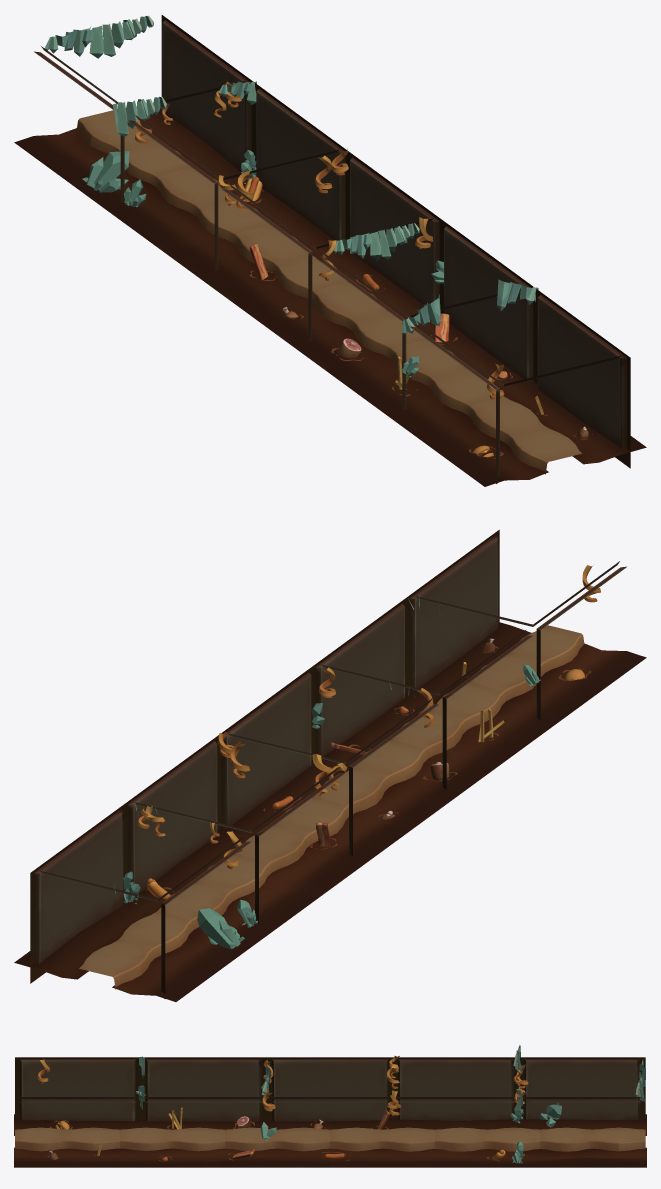
File: stg2_C.gltf
3 renders of one model, top to bottom at view 1: azimuth 30°, elevation 25°; view 2: azimuth 150°, elevation 25°; view 3: azimuth 270°, elevation 25°, orthographic. The views are drawn at different scales.
Visible parts, largest first — view 1: stg2_C_GEO:PIV; view 2: stg2_C_GEO:PIV; view 3: stg2_C_GEO:PIV.
Boxes of the visible parts, x1,y1,x2,y2 form: stg2_C_GEO:PIV: (14,15,646,486); stg2_C_GEO:PIV: (14,529,646,1001); stg2_C_GEO:PIV: (14,1045,646,1167).
Bounding box in the file's own units: 4194 × 3148 × 21095.
